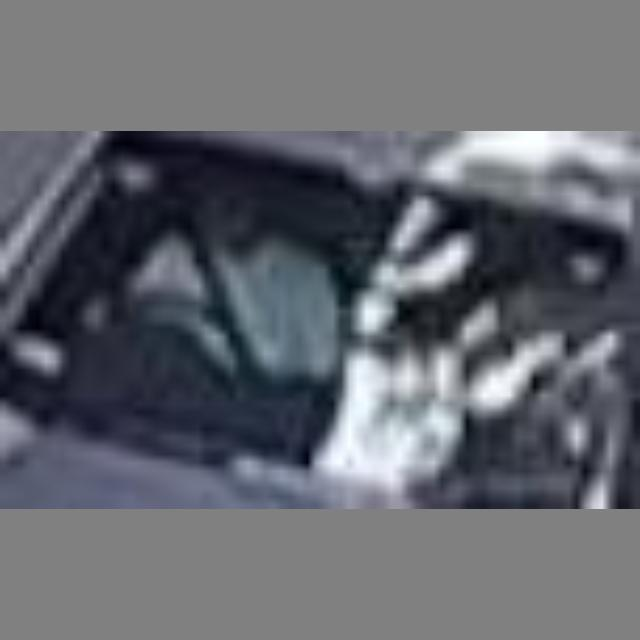pakai: (118, 190, 345, 417)
